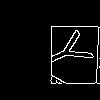Y: (41, 24, 100, 76)
